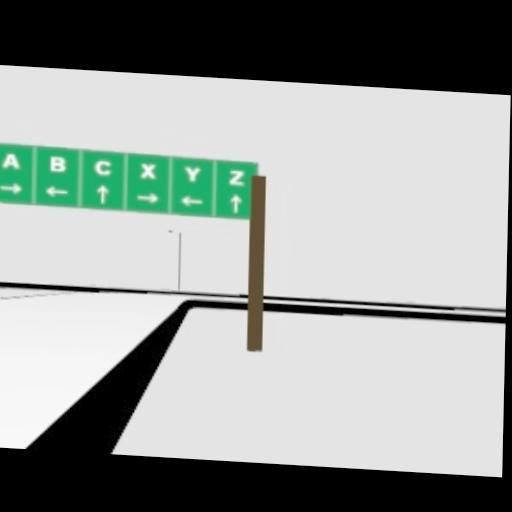A: (2, 151, 21, 169)
B: (50, 156, 65, 172)
C: (94, 158, 111, 176)
Left: (180, 196, 202, 207), (46, 186, 68, 197)
Right: (0, 181, 24, 195), (136, 191, 158, 203)
Straight: (97, 183, 109, 203), (230, 193, 242, 213)
X: (140, 162, 155, 178)
Y: (184, 165, 199, 180)
Z: (229, 169, 244, 185)
